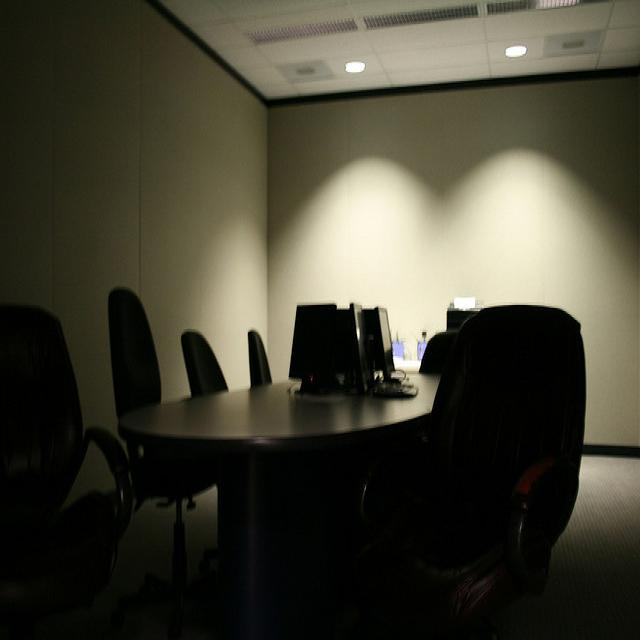Table: (113, 366, 499, 625)
chair: (0, 254, 107, 604), (100, 269, 195, 436), (170, 302, 244, 427), (241, 289, 273, 421)
